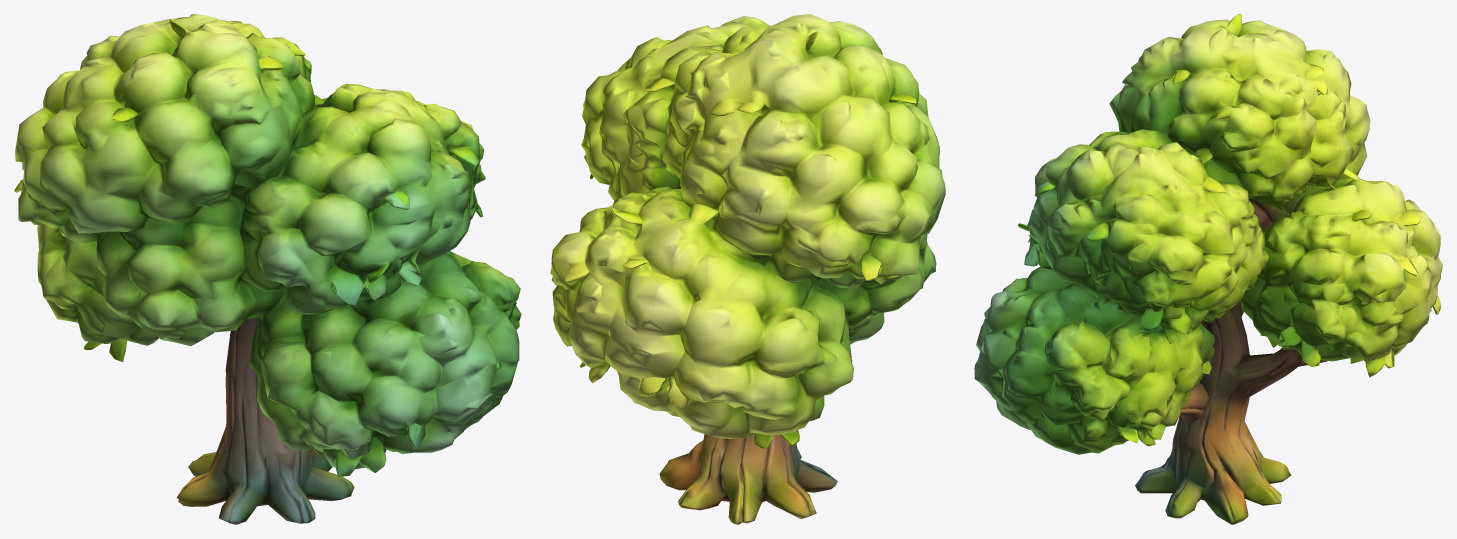
The model's file is oak-high.glb.
The picture shows the model from 3 angles, left to right: view 1: azimuth 30°, elevation 25°; view 2: azimuth 150°, elevation 25°; view 3: azimuth 270°, elevation 25°; orthographic projection. The views are drawn at different scales.
Visible parts, largest first — view 1: tripo_node_5c9d3df0-1abe-4f49-986a-10d224479850; view 2: tripo_node_5c9d3df0-1abe-4f49-986a-10d224479850; view 3: tripo_node_5c9d3df0-1abe-4f49-986a-10d224479850.
Part boxes in pixels (bbox=[...]): tripo_node_5c9d3df0-1abe-4f49-986a-10d224479850: bbox=[14, 14, 521, 524]; tripo_node_5c9d3df0-1abe-4f49-986a-10d224479850: bbox=[550, 14, 945, 524]; tripo_node_5c9d3df0-1abe-4f49-986a-10d224479850: bbox=[974, 14, 1442, 524].
Bounding box in the file's own units: 0.8472 × 0.9977 × 0.9582.
1 material, 1 textured.
